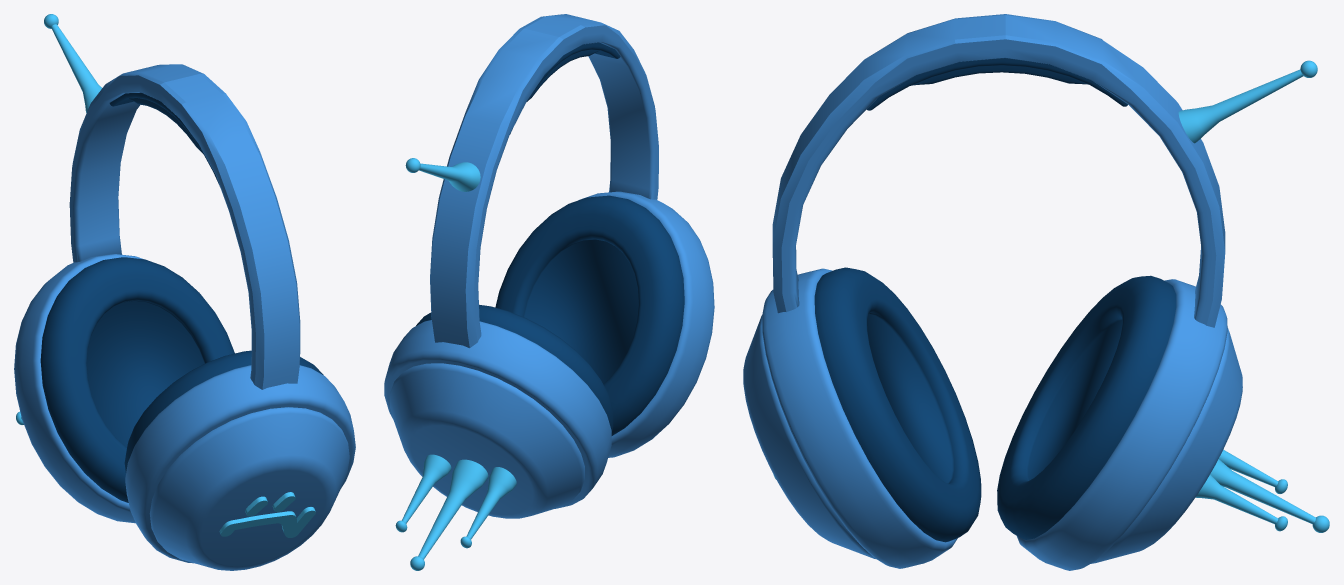
Rendered from project-03.glb.
3 renders of one model, left to right at view 1: azimuth 30°, elevation 25°; view 2: azimuth 150°, elevation 25°; view 3: azimuth 270°, elevation 25°, orthographic. The views are drawn at different scales.
Visible parts, largest first — view 1: inner pad.001, band large, outside ear pad, mid ear pad, mid ear pad.001, inner pad, Curve, Circle.004, Plane; view 2: inner pad, band large, outside ear pad.001, mid ear pad.001, mid ear pad, inner pad.001, Circle.001, Circle.002, Circle.004, Circle.003, Plane; view 3: band large, inner pad, inner pad.001, mid ear pad.001, mid ear pad, outside ear pad.001, outside ear pad, Plane, Circle.004, Circle.001, Circle.003, Circle.002.
Part boxes in pixels (box(x1,y1,x2,y2)): inner pad.001: box(40, 257, 234, 502); band large: box(69, 64, 300, 389); outside ear pad: box(149, 407, 349, 570); mid ear pad: box(125, 365, 355, 563); mid ear pad.001: box(14, 254, 143, 523); inner pad: box(124, 350, 323, 472); Curve: box(219, 492, 315, 537); Circle.004: box(44, 14, 101, 112); Plane: box(109, 92, 219, 186); inner pad: box(495, 195, 684, 435); band large: box(430, 14, 658, 348); outside ear pad.001: box(389, 363, 584, 518); mid ear pad.001: box(384, 320, 611, 508); mid ear pad: box(578, 191, 714, 457); inner pad.001: box(416, 304, 613, 432); Circle.001: box(410, 459, 488, 570); Circle.002: box(460, 467, 516, 548); Circle.004: box(405, 158, 480, 191); Circle.003: box(395, 454, 451, 532); Plane: box(510, 42, 620, 134); band large: box(772, 14, 1225, 327); inner pad: box(814, 267, 981, 542); inner pad.001: box(997, 275, 1176, 539); mid ear pad.001: box(1017, 279, 1227, 570); mid ear pad: box(762, 268, 957, 568); outside ear pad.001: box(1091, 328, 1242, 563); outside ear pad: box(743, 315, 875, 558); Plane: box(867, 58, 1128, 110); Circle.004: box(1178, 60, 1317, 143); Circle.001: box(1210, 459, 1329, 532); Circle.003: box(1195, 474, 1287, 531); Circle.002: box(1218, 449, 1287, 493).
Bounding box in the file's own units: 1.72 × 3.7 × 3.67.
